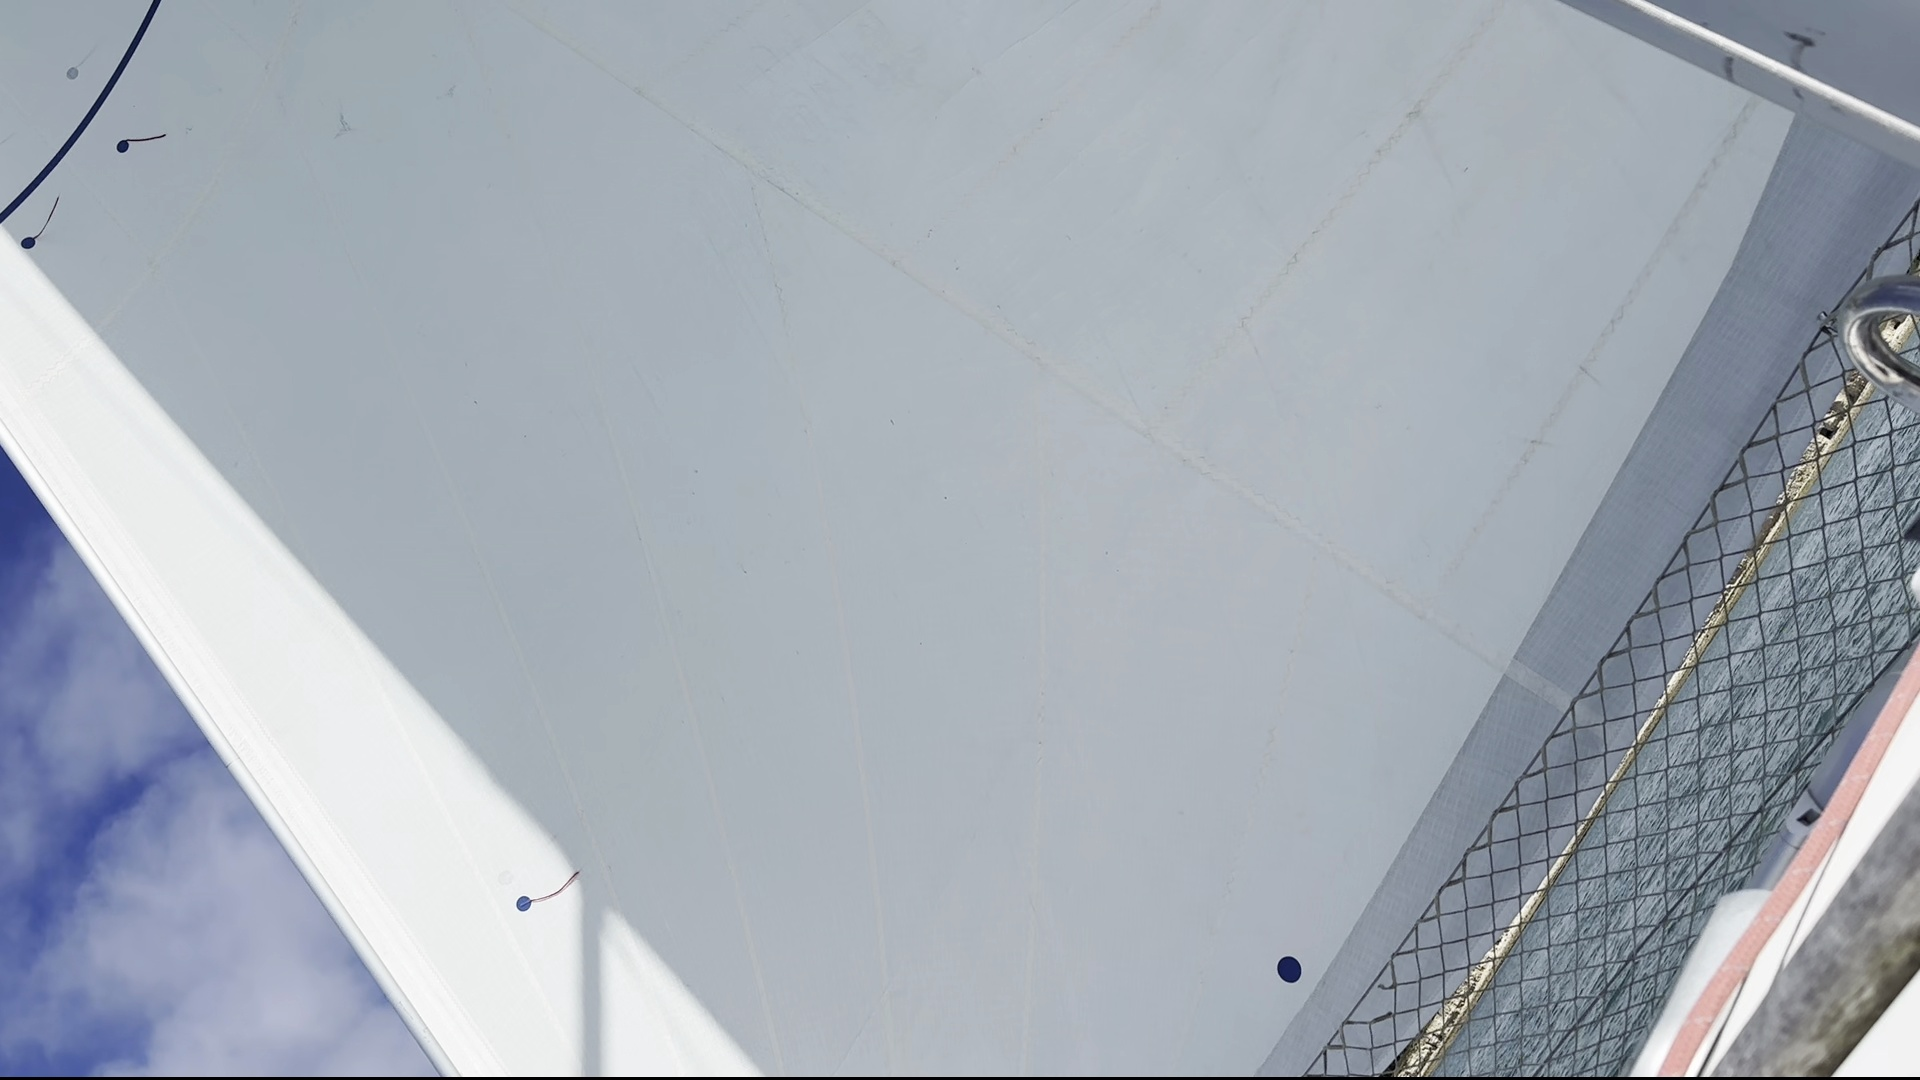pennon_attached: (508, 856, 591, 934), (59, 38, 103, 84)
pennon_detached: (13, 190, 73, 256), (109, 119, 171, 164)
